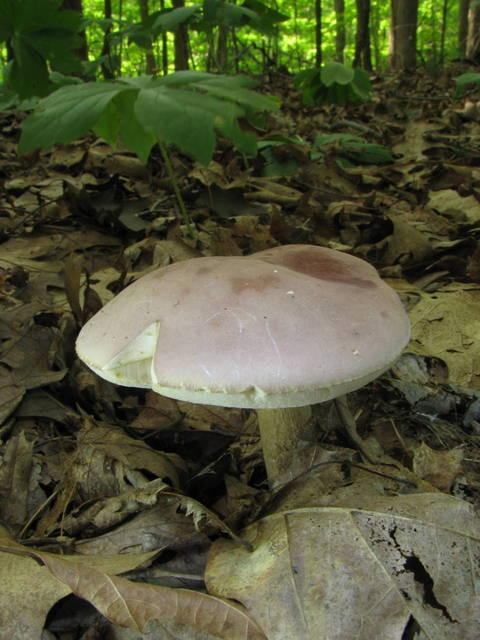poisonous_mushroom: (73, 242, 412, 492)
